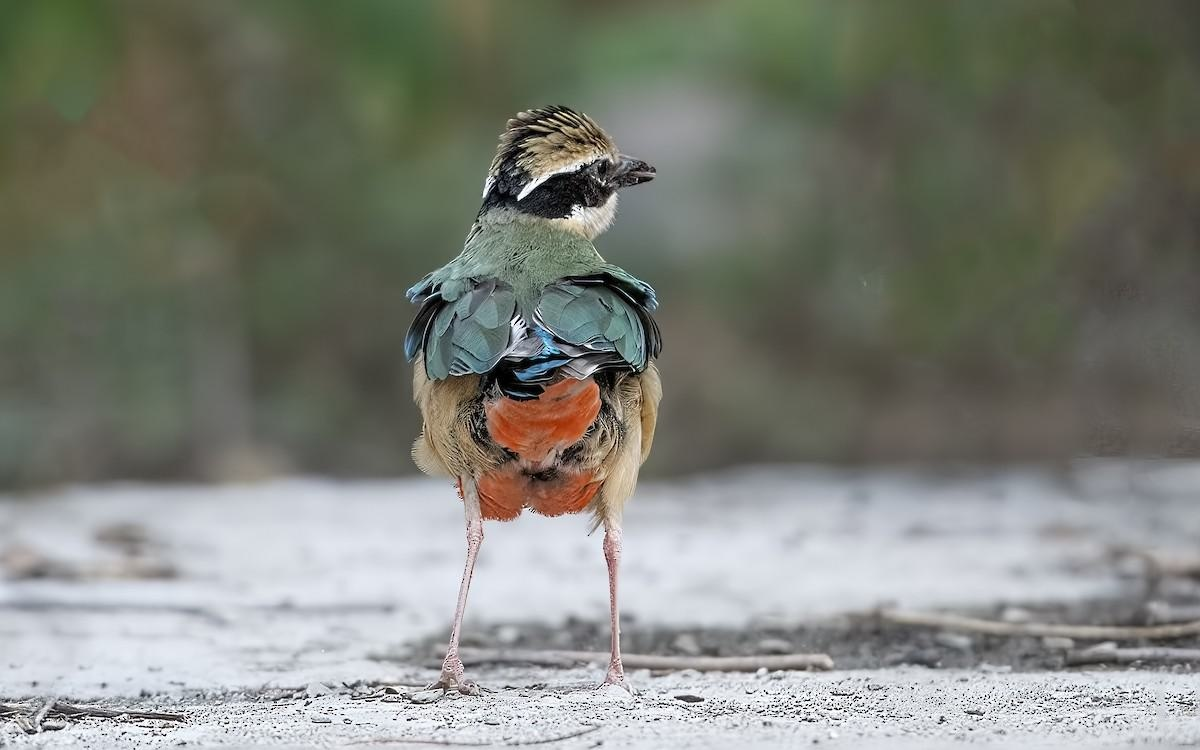pitta: (369, 78, 726, 612)
